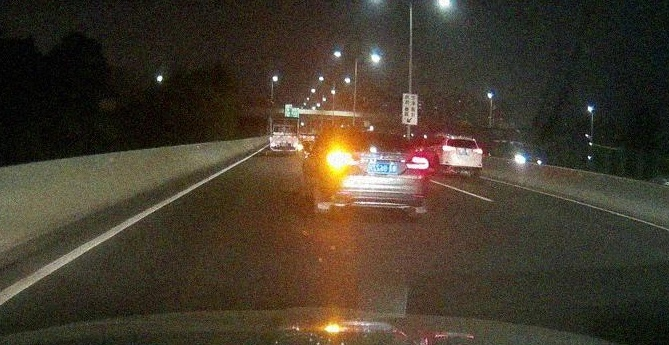L_light: (325, 151, 353, 166), (441, 145, 455, 151)
R_light: (404, 156, 429, 170), (471, 148, 483, 155)
T_light: (363, 131, 379, 136), (457, 138, 466, 142)
night-left: (319, 128, 431, 219)
night-no: (439, 135, 483, 177)
